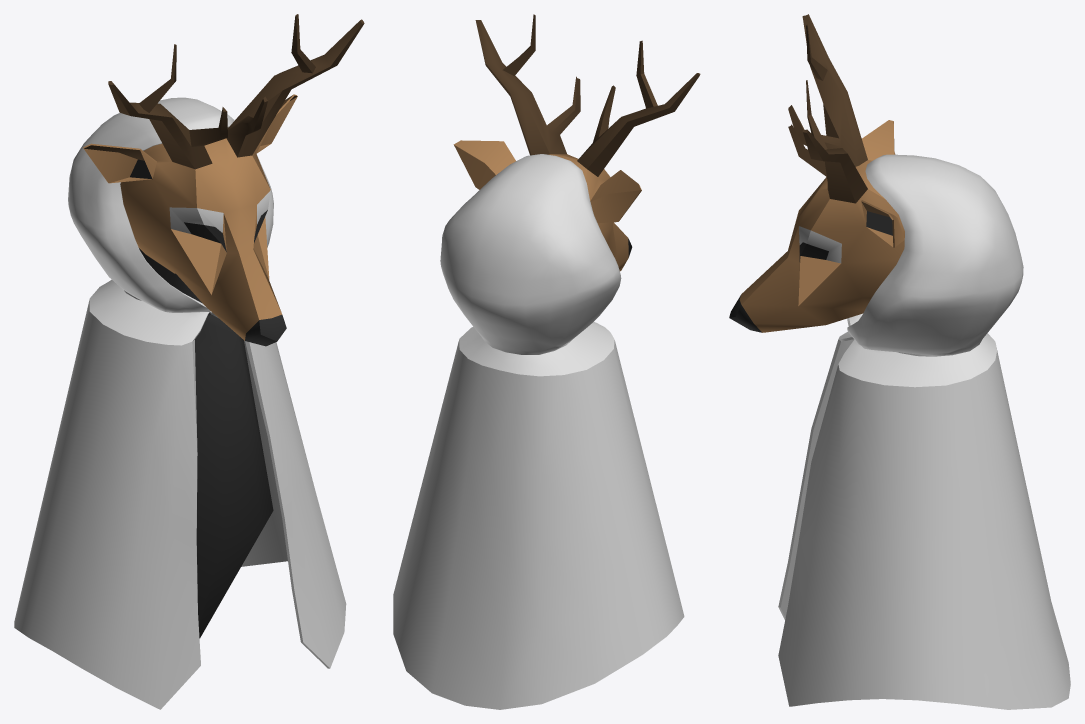
Rendered from DEEER updated.fbx.
3 renders of one model, left to right at view 1: azimuth 30°, elevation 25°; view 2: azimuth 150°, elevation 25°; view 3: azimuth 270°, elevation 25°, orthographic. The views are drawn at different scales.
Visible parts, largest first — view 1: cape, body_1; view 2: cape, body_1; view 3: cape, body_1.
Boxes of the visible parts, x1,y1,x2,y2 form: cape: (14,97,346,709); body_1: (83,14,364,638); cape: (393,154,684,709); body_1: (453,14,700,271); cape: (778,154,1070,709); body_1: (729,14,904,332).
Size of the model in its own units: 402 by 866 by 424.
